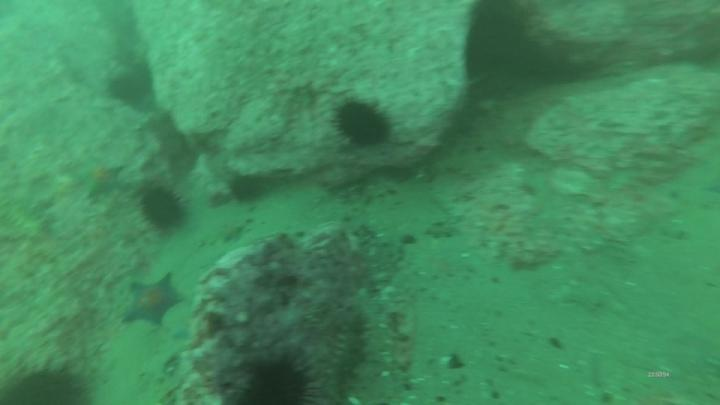echinus: (229, 351, 319, 405), (2, 360, 99, 405), (329, 95, 397, 151), (139, 185, 188, 236), (105, 67, 157, 107), (226, 174, 262, 205)
holothurian: (322, 314, 371, 405), (1, 192, 53, 244)
starfish: (123, 272, 188, 332), (73, 155, 133, 204), (220, 222, 247, 245)
